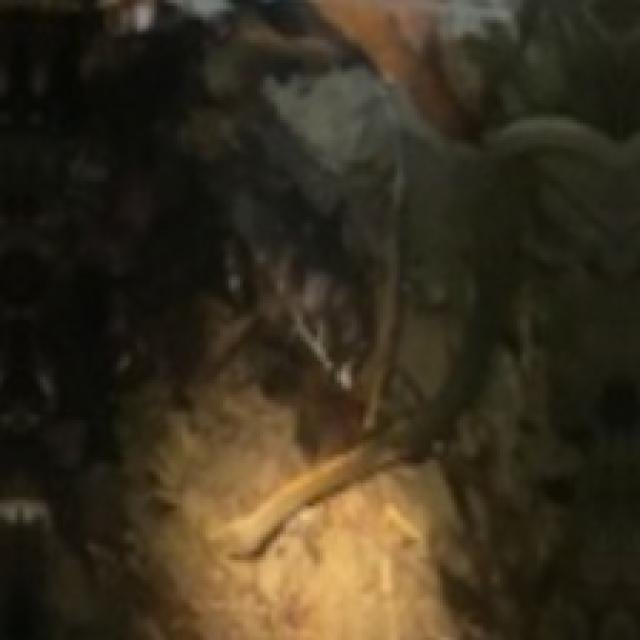king cobra: (200, 0, 637, 637)
